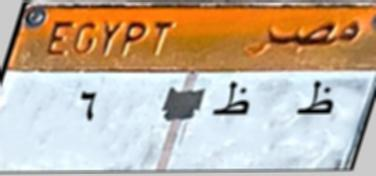6: (75, 81, 102, 129)
Thaa: (292, 76, 337, 129), (210, 79, 257, 127)
